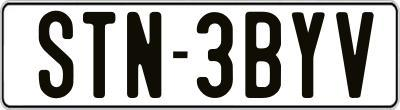3: (194, 11, 230, 100)
B: (245, 12, 282, 98)
N: (124, 10, 163, 97)
S: (38, 8, 74, 96)
T: (80, 10, 115, 101)
V: (334, 12, 377, 102)
Y: (292, 11, 325, 99)
